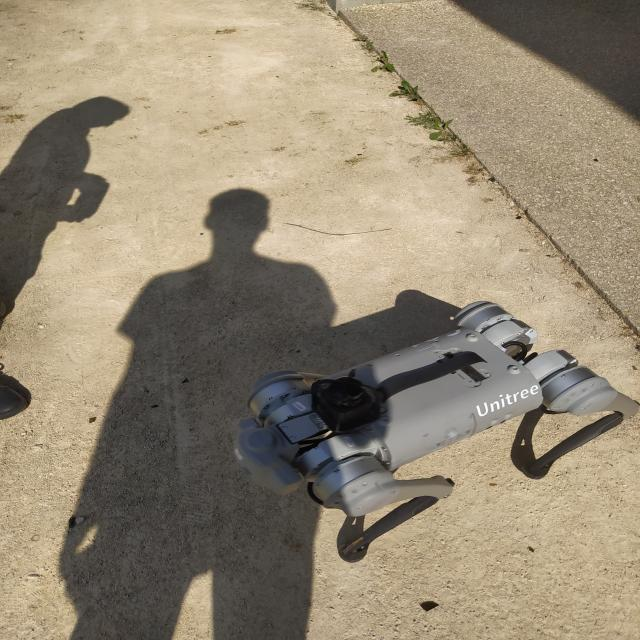unitree-go1-robot: (230, 301, 640, 557)
